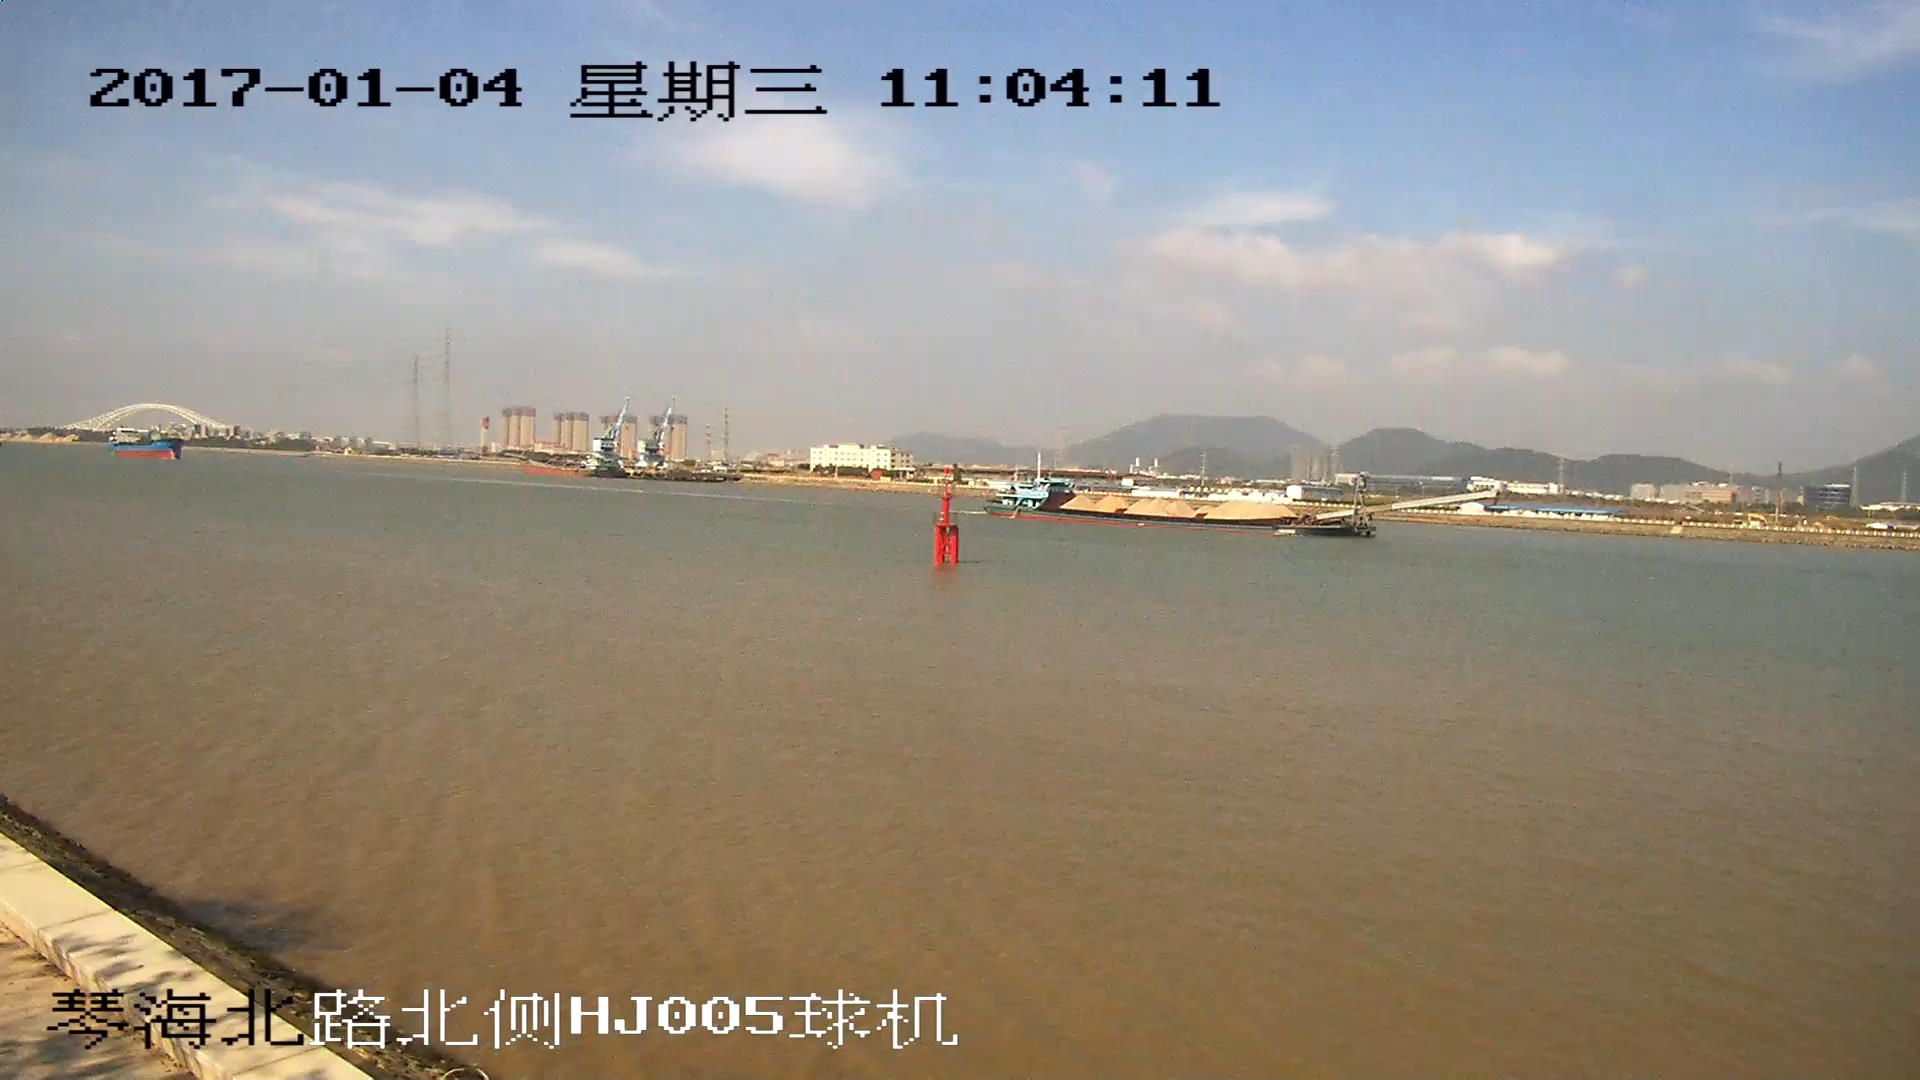ore carrier: (988, 466, 1509, 538)
